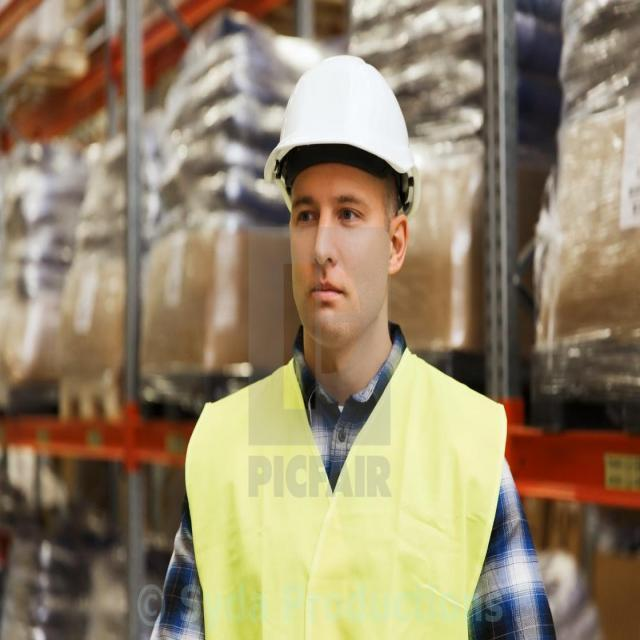helmet: (264, 53, 420, 207)
vest: (182, 340, 510, 640)
